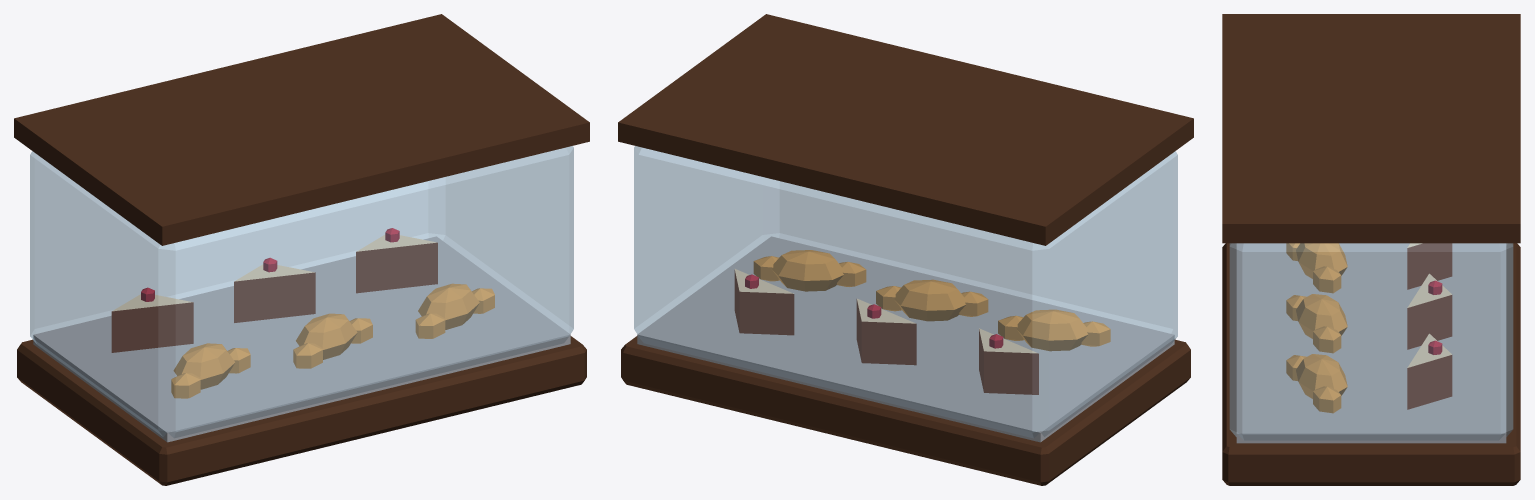
The model's file is pastry_display.obj.
3 views of the same model, side by side, from view 1: azimuth 30°, elevation 25°; view 2: azimuth 150°, elevation 25°; view 3: azimuth 270°, elevation 25° (orthographic).
Visible parts, largest first — view 1: pastry_display; view 2: pastry_display; view 3: pastry_display.
Boxes of the visible parts, bbox=[...] form: pastry_display: bbox=[14, 14, 589, 485]; pastry_display: bbox=[618, 14, 1193, 485]; pastry_display: bbox=[1222, 14, 1520, 485].
Bounding box in the file's own units: 0.7 × 0.41 × 0.42.
